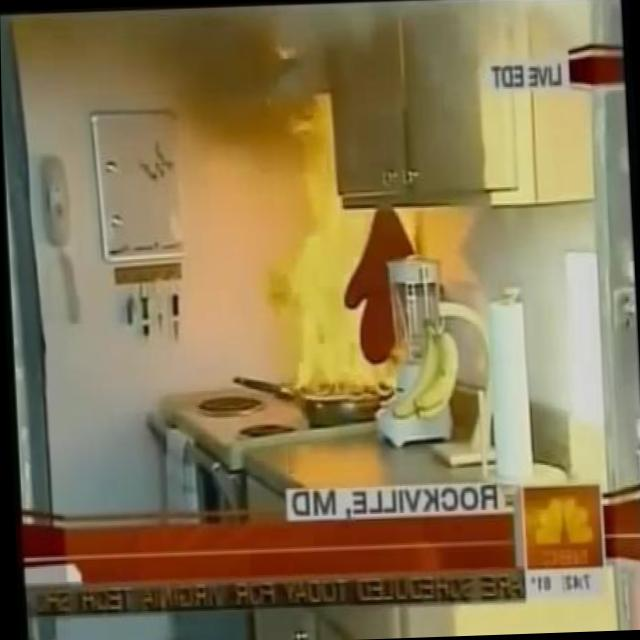fire: (264, 86, 425, 404)
